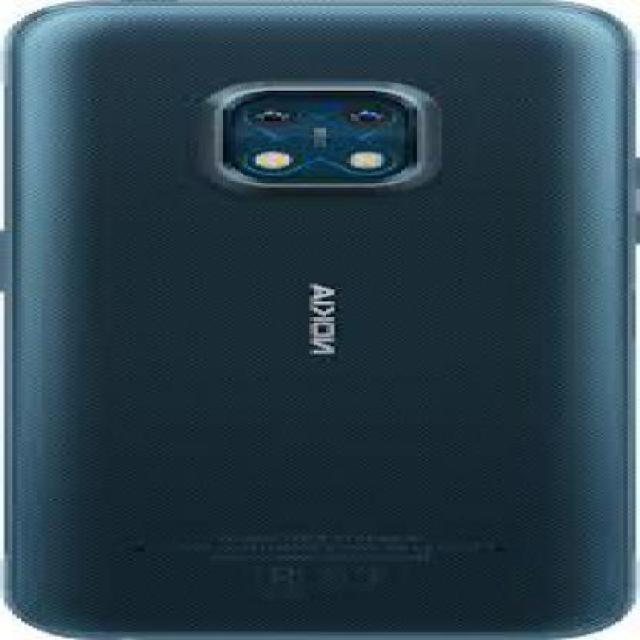phone: (1, 1, 637, 638)
